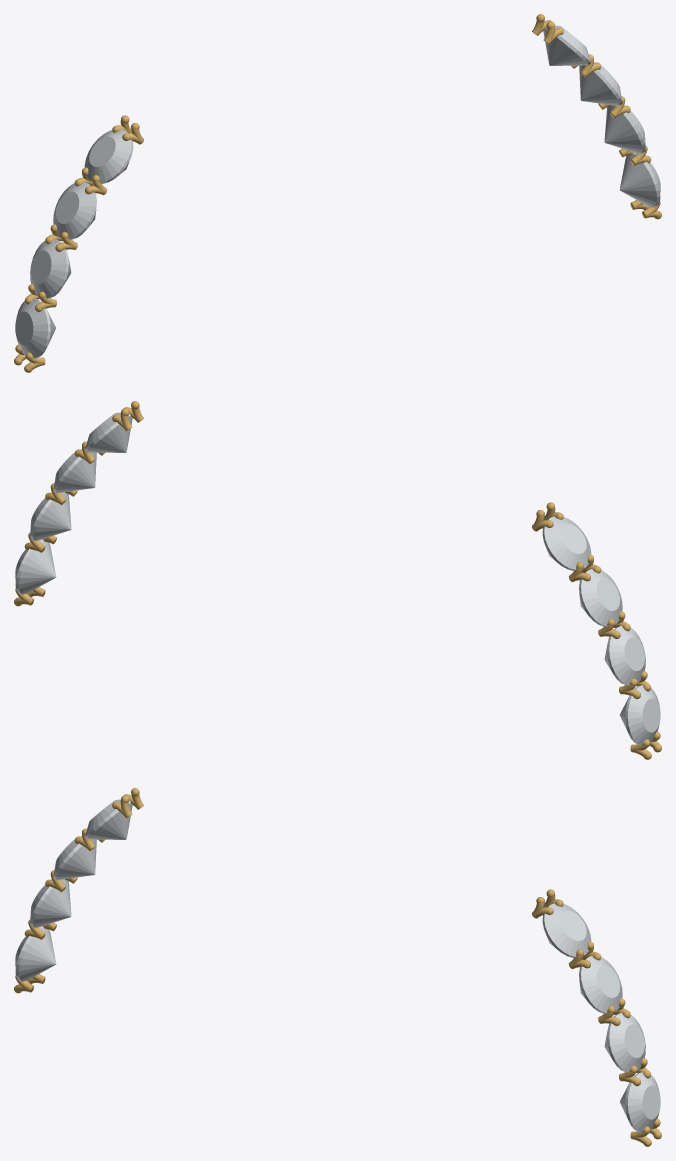
The model's file is accents-shared-prong-head.glb.
The picture shows the model from 3 angles, top to bottom: view 1: azimuth 30°, elevation 25°; view 2: azimuth 150°, elevation 25°; view 3: azimuth 330°, elevation 25°; orthographic projection.
Parts seen in each view (by area): view 1: Gem, Gem.001, Gem.002, Gem.003, Gem.007, Gem.006, Gem.005, Gem.004; view 2: Gem, Gem.001, Gem.002, Gem.003, Gem.007, Gem.006, Gem.005, Gem.004; view 3: Gem.004, Gem.005, Gem.006, Gem.007, Gem.003, Gem.002, Gem.001, Gem.
Part boxes in pixels (<box>): Gem: <box>84,129,133,183</box>; Gem.001: <box>53,182,96,239</box>; Gem.002: <box>30,239,71,298</box>; Gem.003: <box>15,298,55,358</box>; Gem.007: <box>619,152,660,207</box>; Gem.006: <box>604,105,645,153</box>; Gem.005: <box>579,62,622,106</box>; Gem.004: <box>543,25,591,65</box>; Gem: <box>542,516,591,570</box>; Gem.001: <box>579,569,622,626</box>; Gem.002: <box>604,626,645,685</box>; Gem.003: <box>620,685,660,745</box>; Gem.007: <box>15,539,56,594</box>; Gem.006: <box>30,492,71,540</box>; Gem.005: <box>53,449,96,493</box>; Gem.004: <box>84,412,132,452</box>; Gem.004: <box>542,903,591,957</box>; Gem.005: <box>579,956,622,1013</box>; Gem.006: <box>604,1013,645,1072</box>; Gem.007: <box>620,1072,660,1132</box>; Gem.003: <box>15,926,56,981</box>; Gem.002: <box>30,879,71,927</box>; Gem.001: <box>53,836,96,880</box>; Gem: <box>84,799,132,839</box>.
Bounding box in the file's own units: 19.83 × 6.64 × 1.65.
